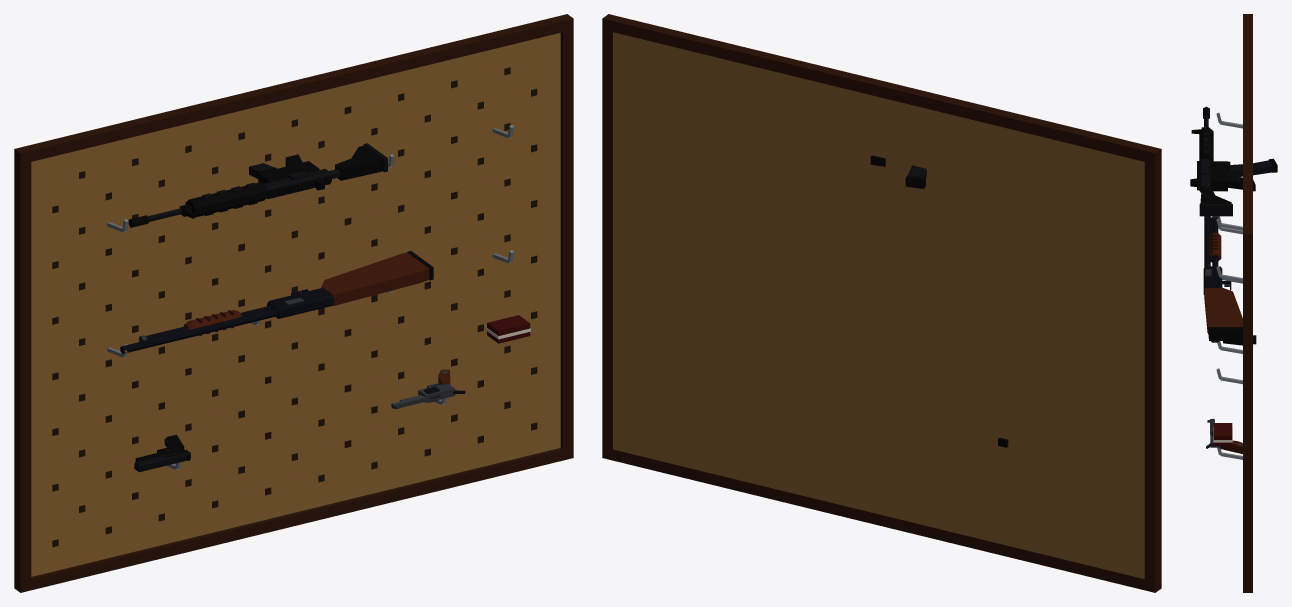
File: SM_Shop_Pegboard_Loaded.glb
3 views of the same model, side by side, from view 1: azimuth 30°, elevation 25°; view 2: azimuth 150°, elevation 25°; view 3: azimuth 270°, elevation 25° (orthographic). The views are drawn at different scales.
Parts seen in each view (by area): view 1: SM_Shop_Pegboard_Loaded; view 2: SM_Shop_Pegboard_Loaded; view 3: SM_Shop_Pegboard_Loaded.
Boxes of the visible parts, box(x1,y1,x2,y2) form: SM_Shop_Pegboard_Loaded: box(14, 14, 573, 592); SM_Shop_Pegboard_Loaded: box(602, 14, 1161, 592); SM_Shop_Pegboard_Loaded: box(1190, 14, 1277, 592).
Bounding box in the file's own units: 2.08 × 1.58 × 0.348.
1 material, 1 textured.
